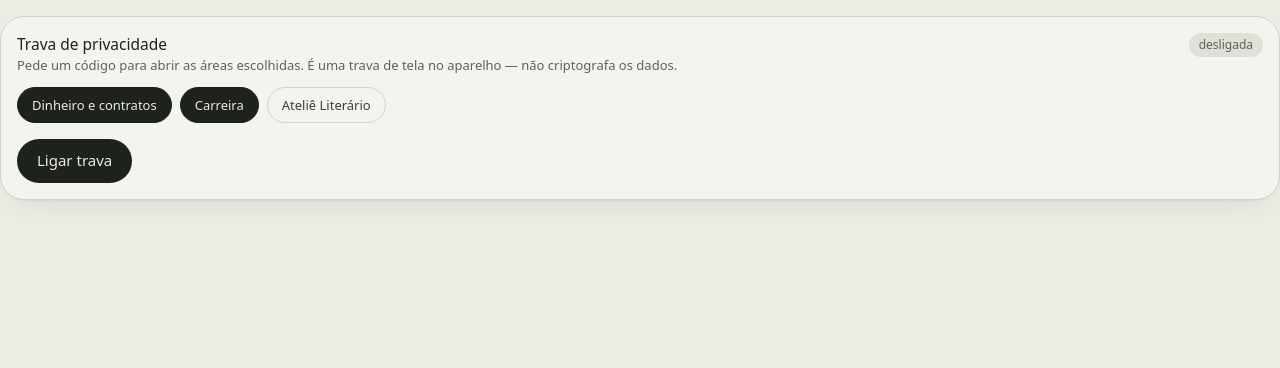
Test: privacy code — real flow › create → (restart) locked → wrong code → unlock → change → old code fails, new works
Later steps or results of the test are not shown.
Click the button "Ligar trava".
click(75, 161)  # box [17,139,132,183]
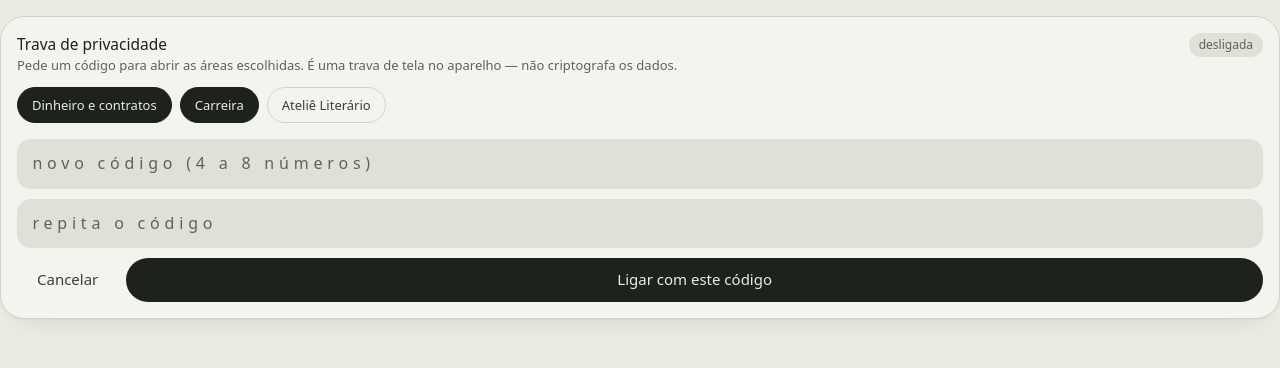
Type "2580" into the password field labelled "novo código (4 a 8 números)".
click(640, 164); type("2580")  # box [17,139,1263,188]
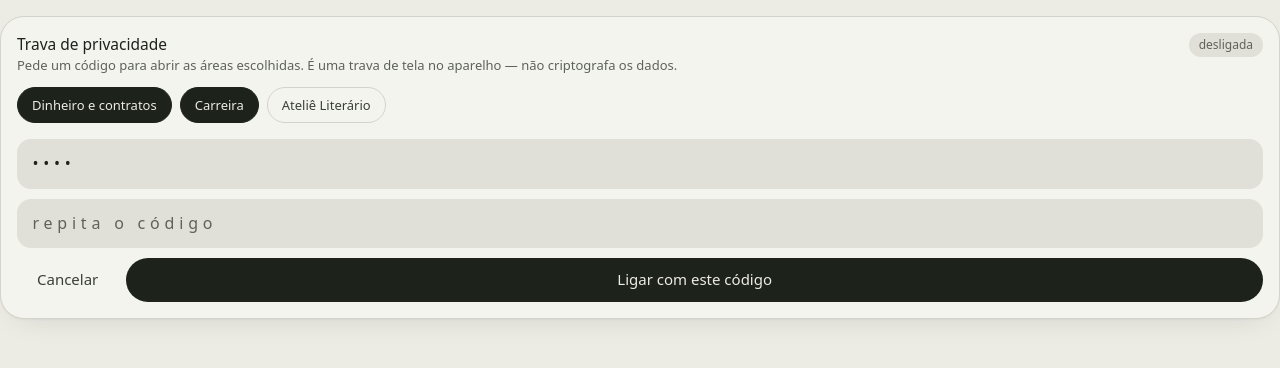
Type "2581" into the password field labelled "repita o código".
click(640, 223); type("2581")  # box [17,198,1263,248]
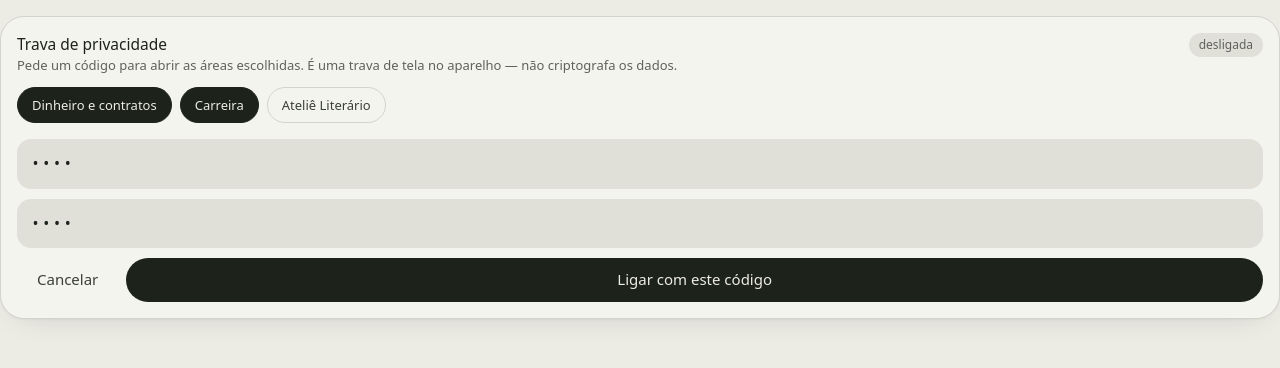
Click the button "Ligar com este código".
click(695, 280)  # box [126,258,1263,302]
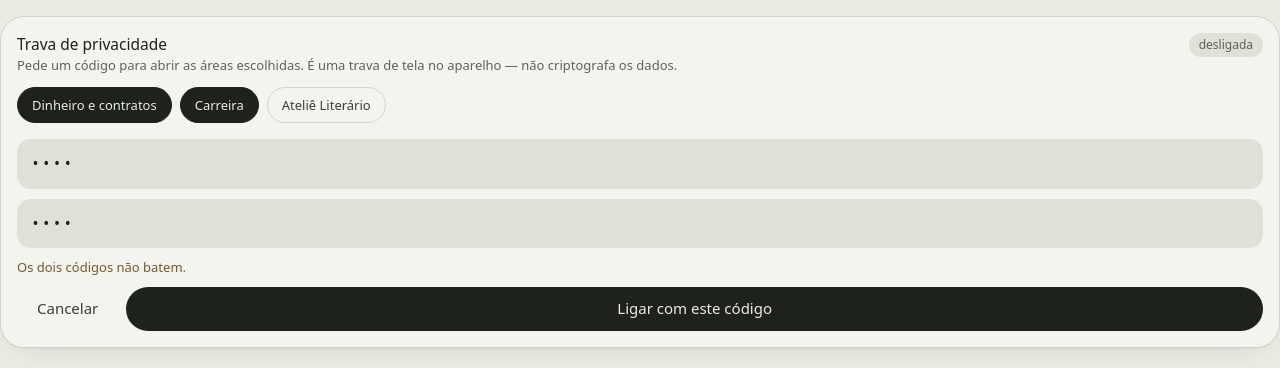
Now the text "Os dois códigos não batem." is shown, box [17,258,186,276]
